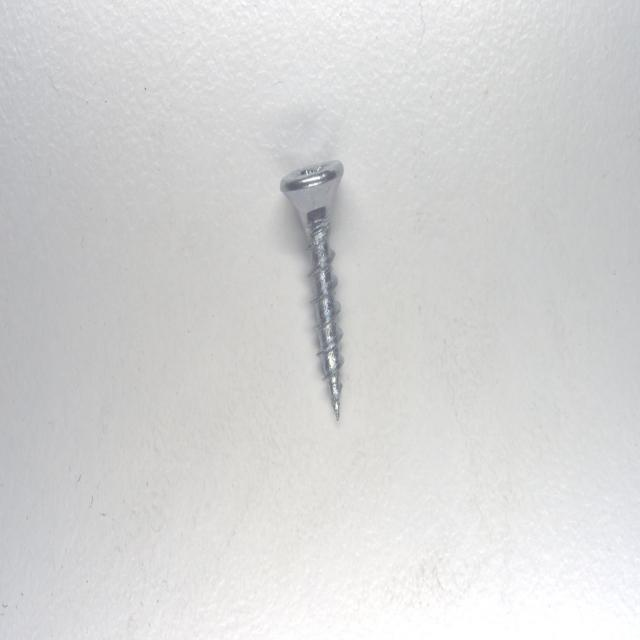Screw: (280, 159, 344, 418)
